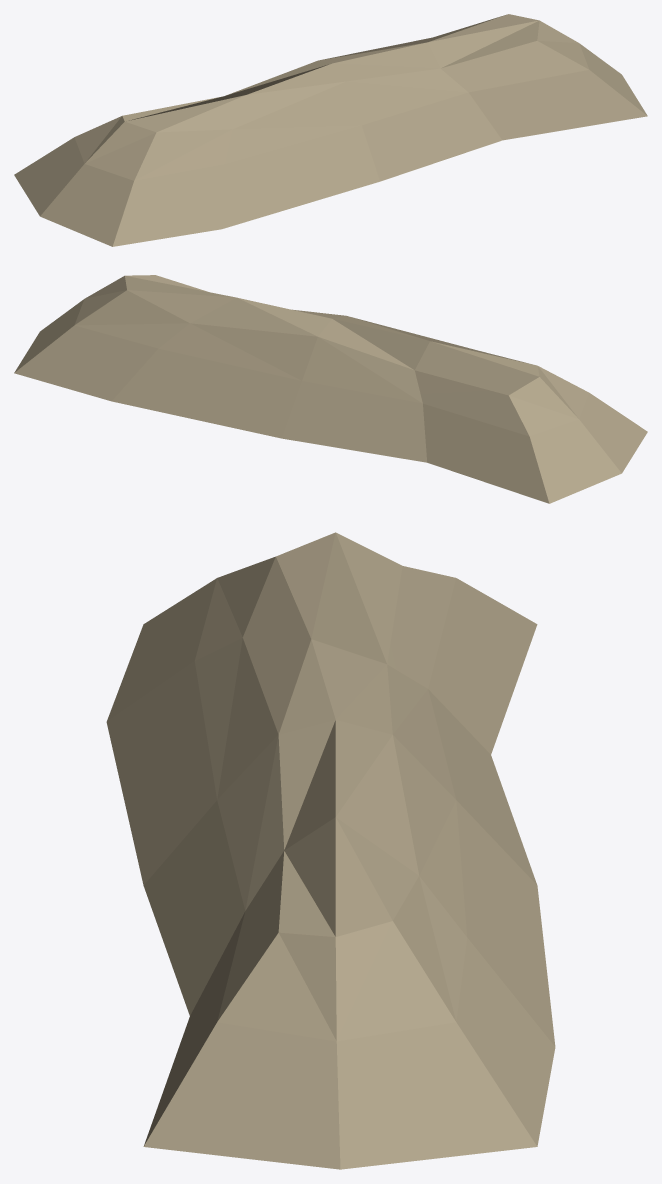
File: SM_Terrain_DustPile_Long_01.glb
The picture shows the model from 3 angles, top to bottom: view 1: azimuth 30°, elevation 25°; view 2: azimuth 150°, elevation 25°; view 3: azimuth 270°, elevation 25°; orthographic projection. The views are drawn at different scales.
Parts seen in each view (by area): view 1: SM_Terrain_DustPile_Long_01; view 2: SM_Terrain_DustPile_Long_01; view 3: SM_Terrain_DustPile_Long_01.
Part boxes in pixels (x1=…): SM_Terrain_DustPile_Long_01: x1=14, y1=14, x2=647, y2=246; SM_Terrain_DustPile_Long_01: x1=14, y1=275, x2=647, y2=503; SM_Terrain_DustPile_Long_01: x1=106, y1=532, x2=555, y2=1169.
Size of the model in its own units: 1.98 by 0.2702 by 0.6624.
Materials: 1 (1 with a texture image).
